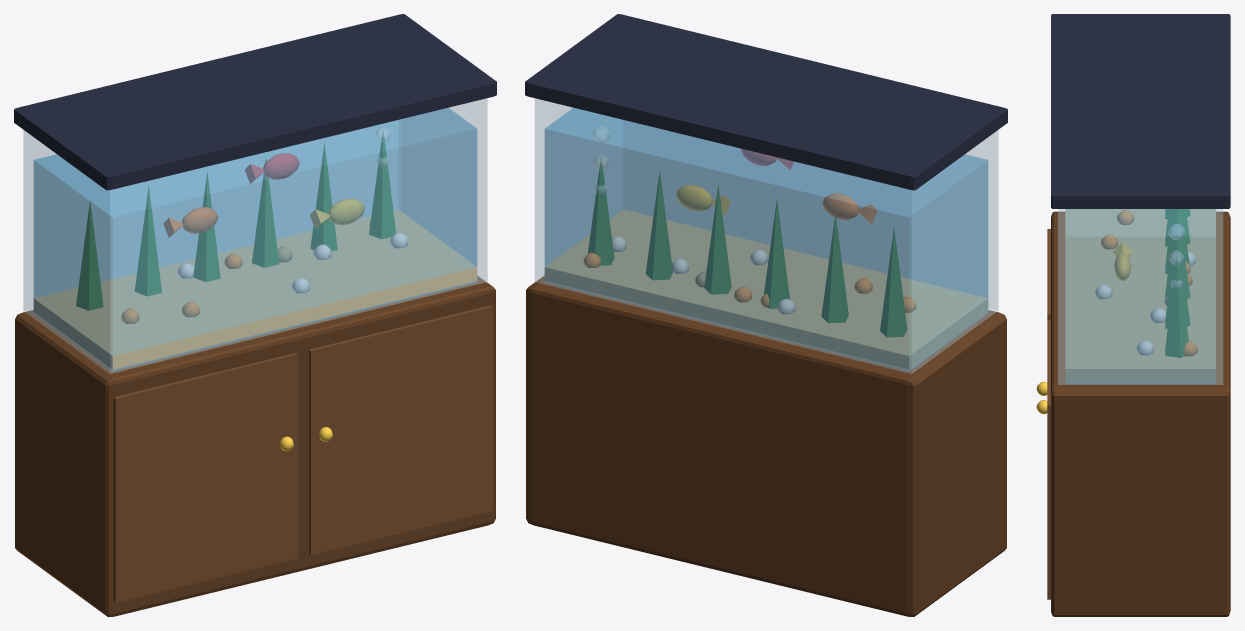
The model's file is aquarium.glb.
3 renders of one model, left to right at view 1: azimuth 30°, elevation 25°; view 2: azimuth 150°, elevation 25°; view 3: azimuth 270°, elevation 25°, orthographic. The views are drawn at different scales.
Visible parts, largest first — view 1: aquarium; view 2: aquarium; view 3: aquarium.
Part boxes in pixels (x1,y1,x2,y2): aquarium: [14, 14, 496, 616]; aquarium: [525, 14, 1007, 616]; aquarium: [1036, 14, 1230, 616].
Size of the model in its own units: 1.2 by 1.3 by 0.54.
Materials: 3 (3 with a texture image).
